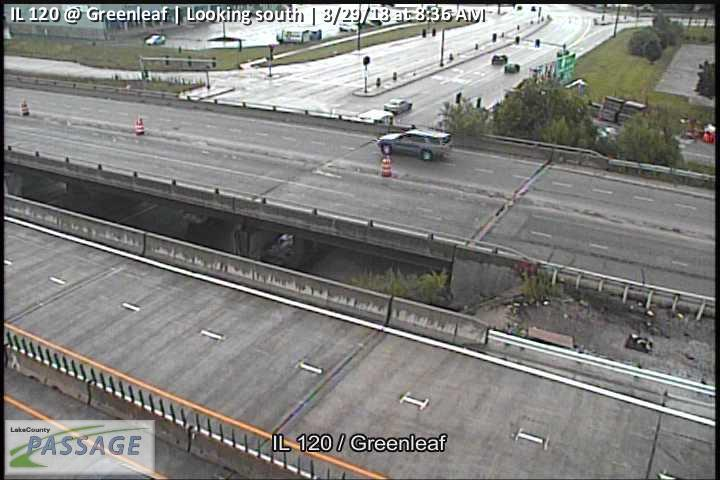SUV: (377, 125, 454, 162), (339, 20, 359, 33)
Sedan: (384, 97, 412, 114)
Truck: (275, 28, 312, 44)
